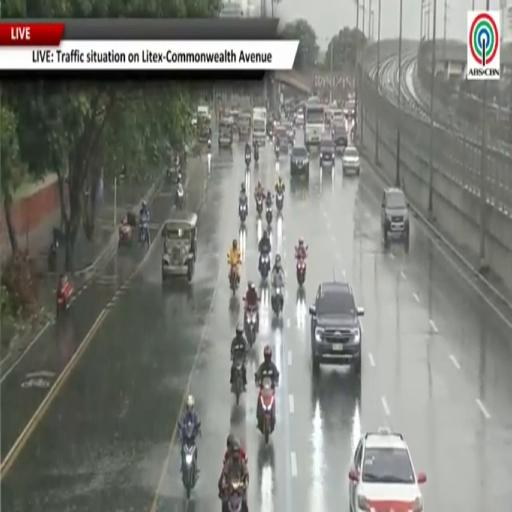bus: (303, 98, 324, 150)
car: (349, 428, 426, 511), (309, 281, 364, 375), (381, 187, 409, 246), (290, 146, 309, 180), (342, 147, 360, 175), (332, 123, 348, 154), (319, 139, 335, 168), (283, 121, 296, 145)
jeepney: (162, 211, 197, 282), (197, 106, 211, 141), (219, 118, 232, 147), (275, 125, 288, 153), (239, 114, 251, 139), (230, 109, 239, 131)
motorcycle: (257, 377, 275, 443), (182, 423, 197, 499), (223, 478, 246, 511), (231, 357, 244, 405), (56, 279, 73, 315), (245, 306, 258, 346), (118, 222, 133, 246), (271, 287, 283, 315), (48, 240, 58, 271), (259, 253, 270, 279), (140, 219, 150, 246), (296, 258, 305, 286), (230, 267, 238, 295), (175, 187, 184, 210), (239, 202, 247, 223), (276, 192, 283, 213), (256, 197, 263, 216), (266, 206, 272, 226), (245, 153, 251, 169), (207, 138, 211, 152), (275, 147, 279, 159), (255, 151, 258, 164)
truck: (252, 107, 266, 145)
